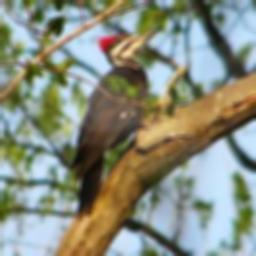Woodpecker: (66, 22, 168, 221)
